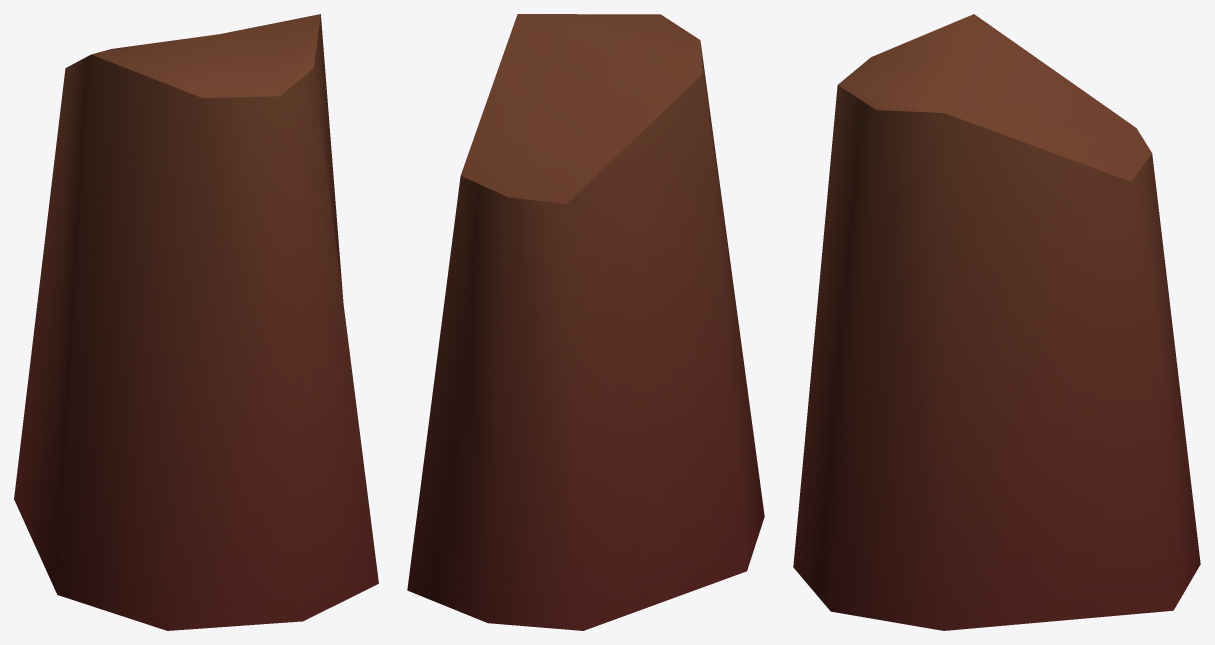
File: Mountain_big.020.fbx
3 views of the same model, side by side, from view 1: azimuth 30°, elevation 25°; view 2: azimuth 150°, elevation 25°; view 3: azimuth 270°, elevation 25° (orthographic). The views are drawn at different scales.
Visible parts, largest first — view 1: Mountain_big.020; view 2: Mountain_big.020; view 3: Mountain_big.020.
Part boxes in pixels (<box>): Mountain_big.020: <box>14,14,378,630</box>; Mountain_big.020: <box>407,14,764,630</box>; Mountain_big.020: <box>793,14,1200,630</box>.
Size of the model in its own units: 122 by 209 by 154.
